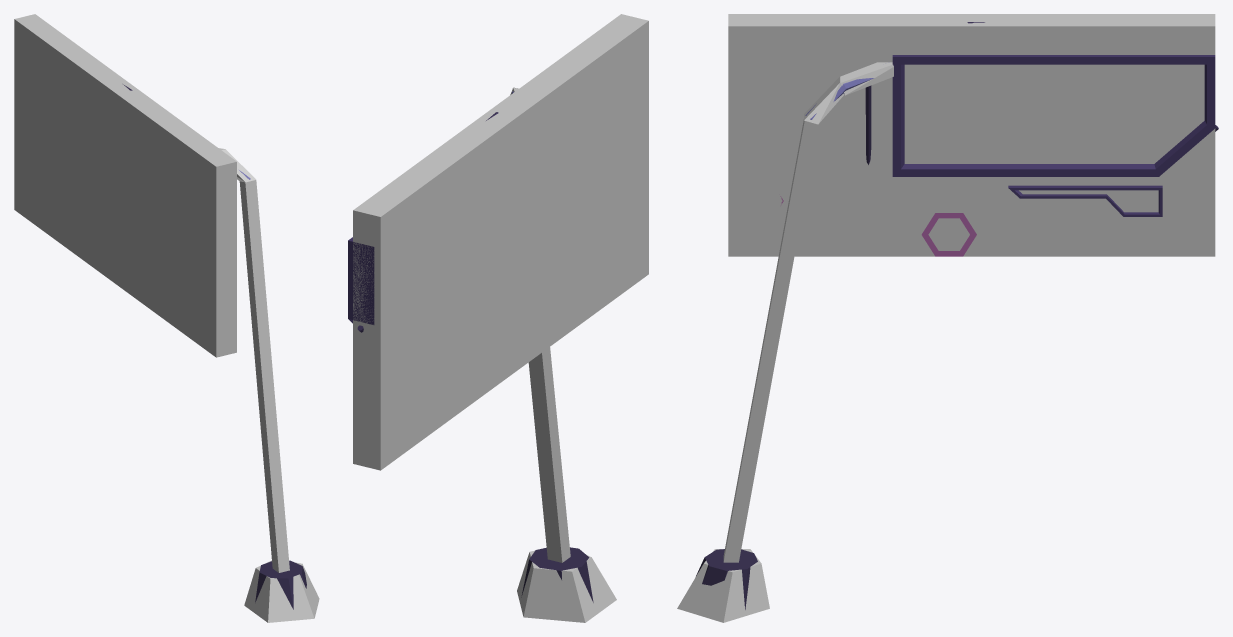
File: SM_Traffic_Lamp.fbx
3 renders of one model, left to right at view 1: azimuth 30°, elevation 25°; view 2: azimuth 150°, elevation 25°; view 3: azimuth 270°, elevation 25°, orthographic. The views are drawn at different scales.
Parts seen in each view (by area): view 1: SM_Traffic_Lamp_ConvexHulls, SM_Traffic_Lamp; view 2: SM_Traffic_Lamp_ConvexHulls, SM_Traffic_Lamp; view 3: SM_Traffic_Lamp_ConvexHulls, SM_Traffic_Lamp.
Part boxes in pixels (x1,y1,x2,y2): SM_Traffic_Lamp_ConvexHulls: [14, 14, 319, 622]; SM_Traffic_Lamp: [123, 84, 306, 609]; SM_Traffic_Lamp_ConvexHulls: [353, 14, 648, 622]; SM_Traffic_Lamp: [348, 91, 593, 602]; SM_Traffic_Lamp_ConvexHulls: [677, 14, 1215, 622]; SM_Traffic_Lamp: [696, 22, 1218, 609].
Bounding box in the file's own units: 153 × 587 × 657.
2 materials, 1 textured.
